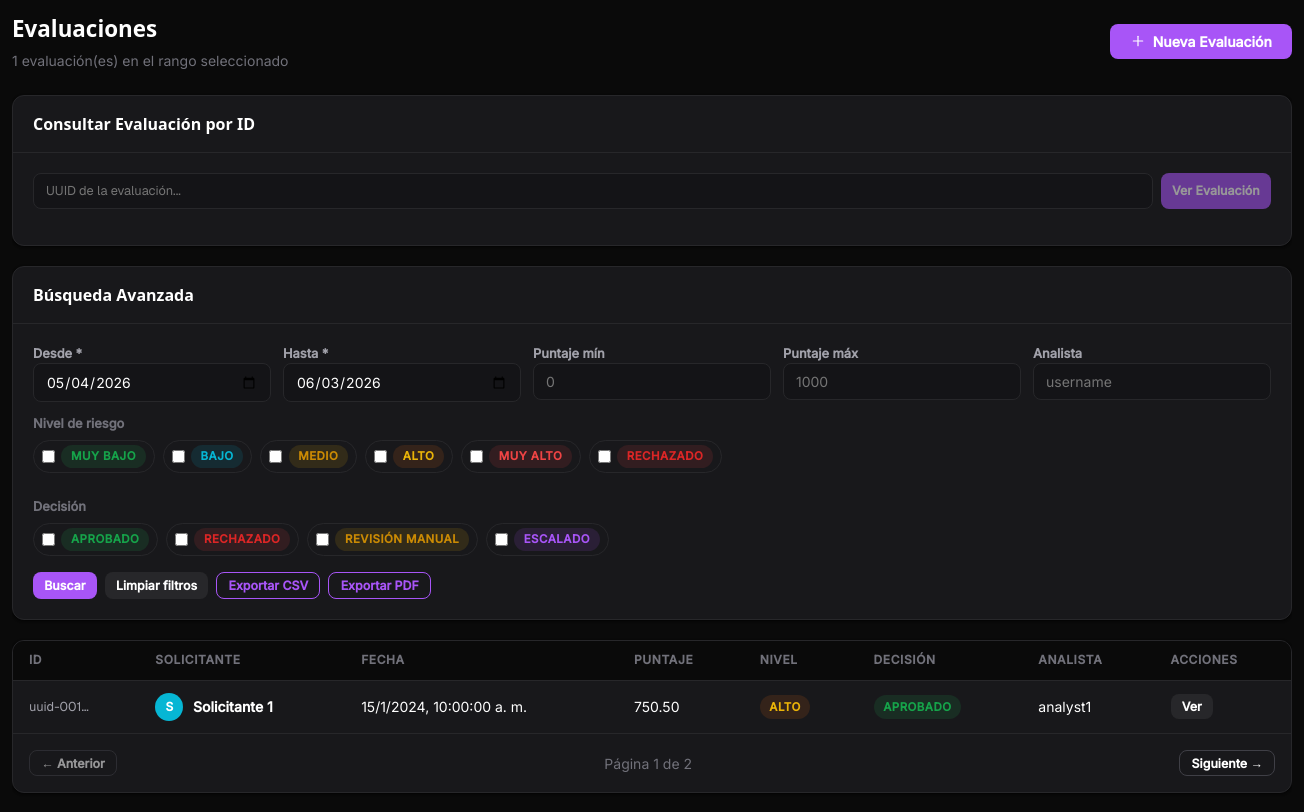
Test: Evaluations — pagination: Siguiente disabled on last page › Siguiente button is disabled when currentPage === totalPages - 1
Expected: the table is shown, 13,641 -> 1291,733
What coordinates should you click on to do the following:
click the button "Siguiente →"
I would click on:
 (1227, 763)
Its box is 1179,750 -> 1275,776.
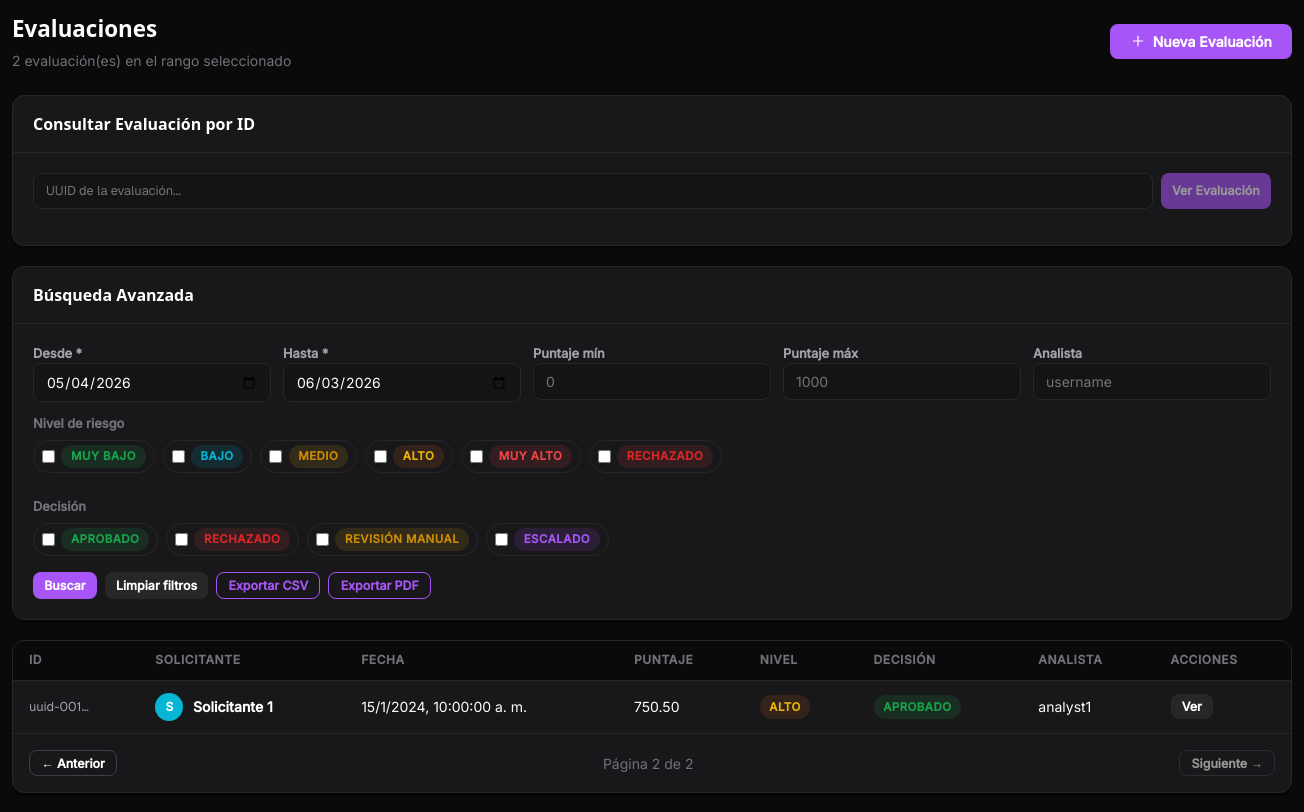
Expected: the button "Siguiente →" is disabled, 1179,750 -> 1275,776
